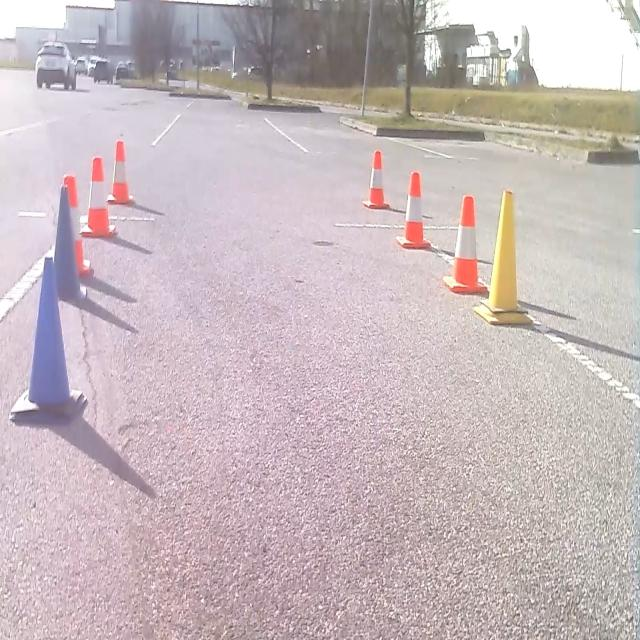blue_cone: (9, 254, 87, 426), (52, 182, 87, 303)
orange_cone: (442, 193, 488, 294), (62, 173, 92, 276), (80, 154, 116, 238), (396, 170, 430, 250), (106, 138, 134, 204), (362, 148, 390, 210)
yellow_cone: (473, 186, 533, 326)
